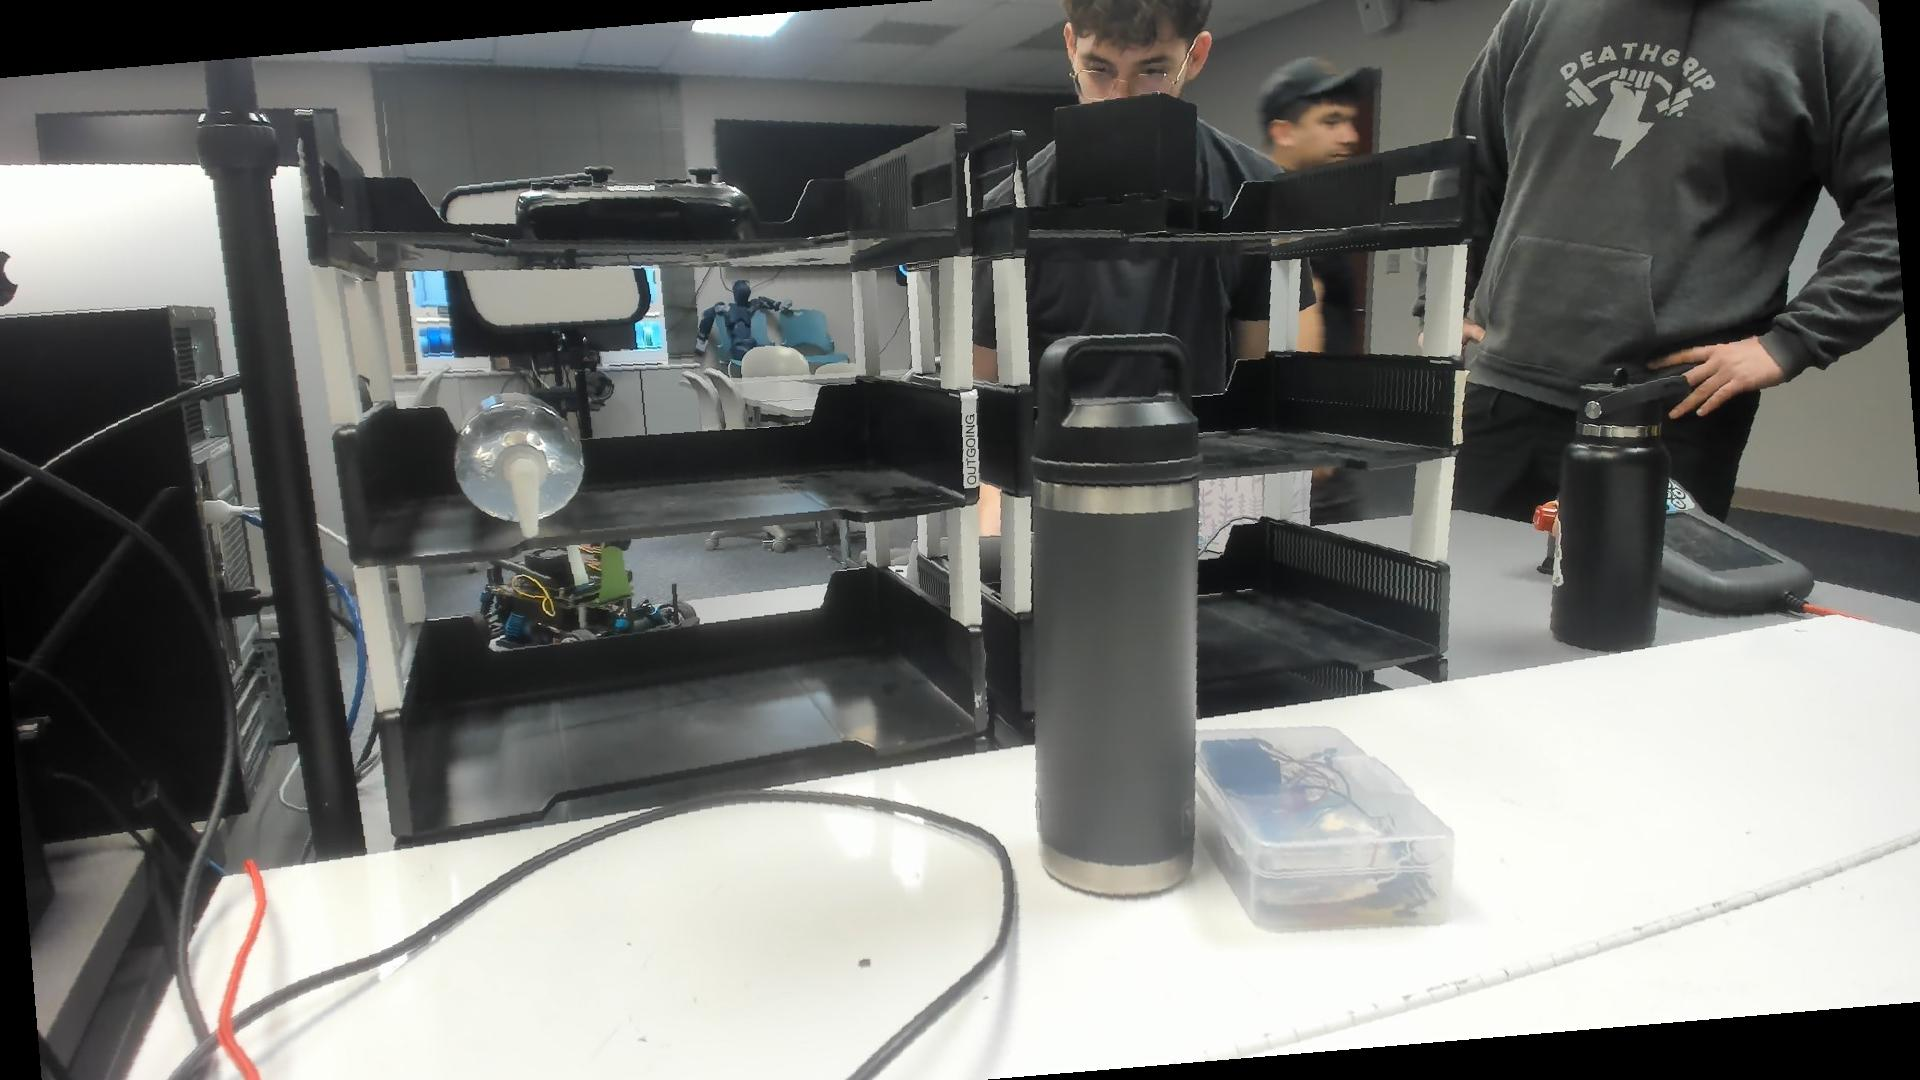black pallet: (1021, 87, 1236, 233)
